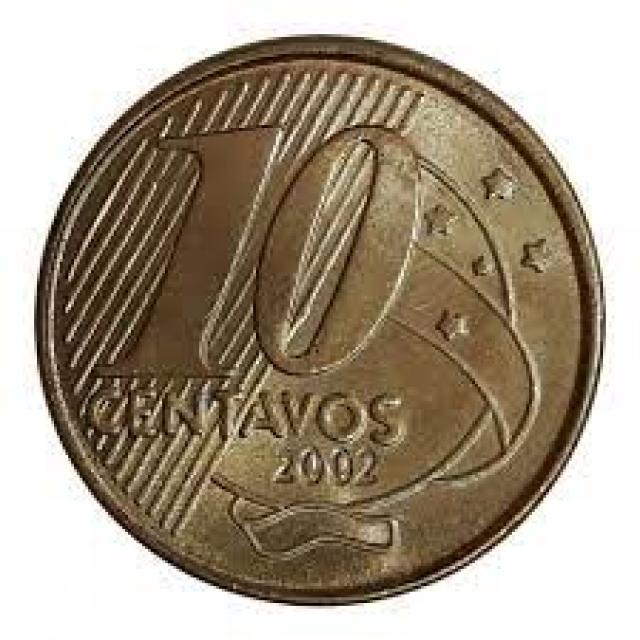10 cent: (40, 41, 593, 591)
